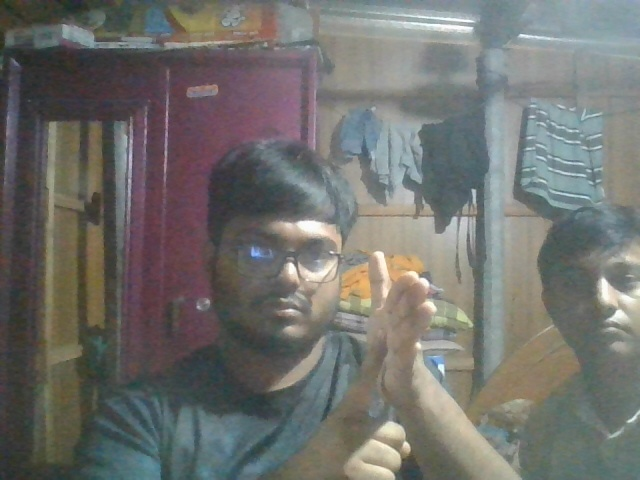r: (297, 264, 481, 471)
